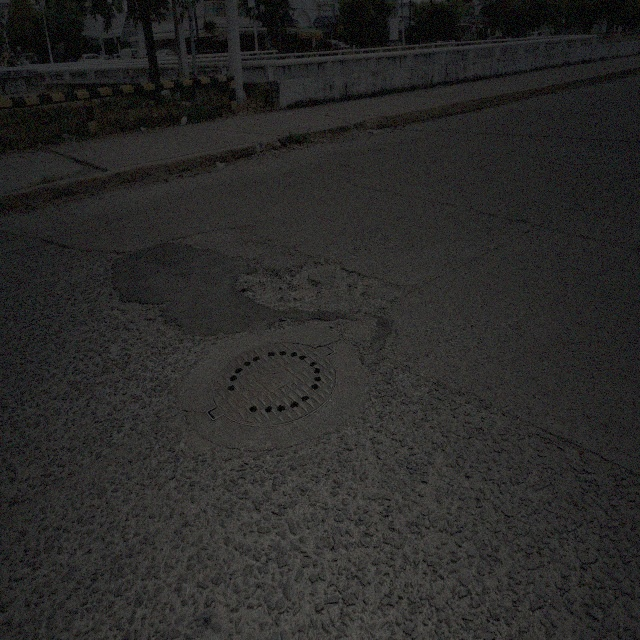pothole: (232, 242, 382, 323)
